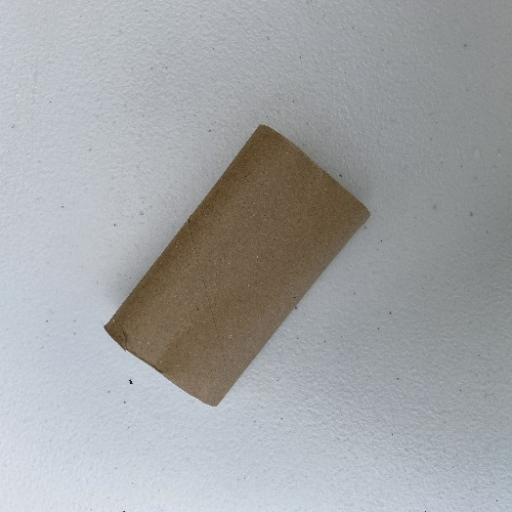Cardboard: (102, 122, 372, 409)
